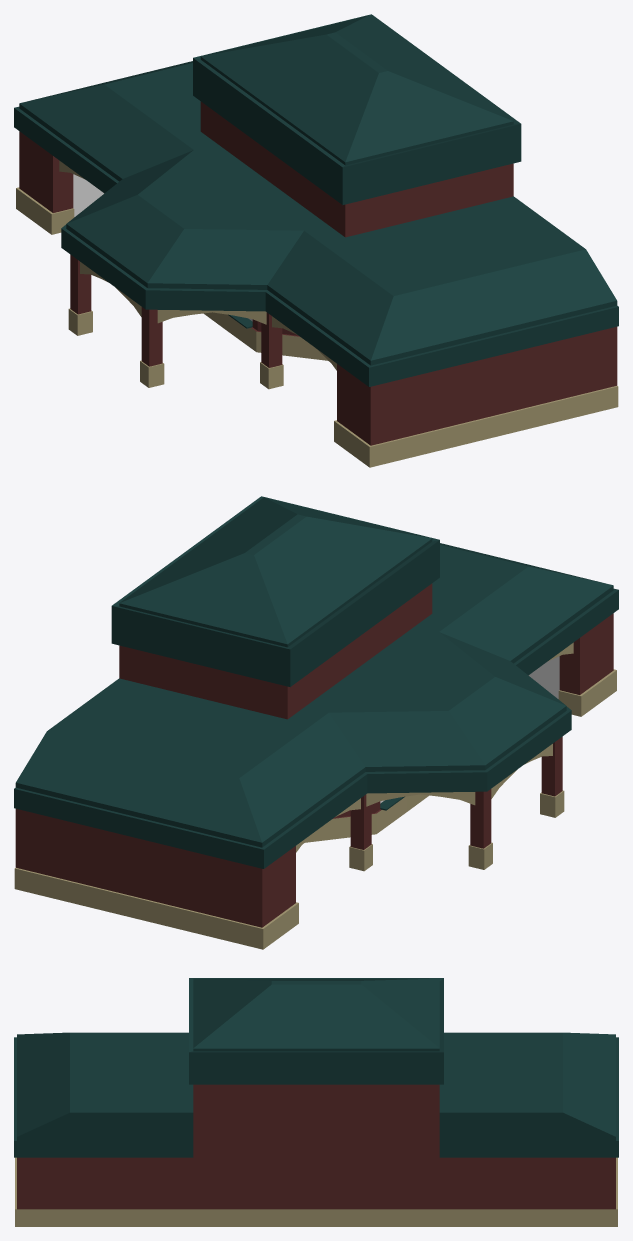
The model's file is Concession_Building.fbx.
The picture shows the model from 3 angles, top to bottom: view 1: azimuth 30°, elevation 25°; view 2: azimuth 150°, elevation 25°; view 3: azimuth 270°, elevation 25°; orthographic projection. The views are drawn at different scales.
Parts seen in each view (by area): view 1: Concession Building; view 2: Concession Building; view 3: Concession Building.
Boxes of the visible parts, x1,y1,x2,y2 form: Concession Building: [14, 14, 618, 467]; Concession Building: [14, 496, 618, 949]; Concession Building: [14, 978, 618, 1226].
Size of the model in its own units: 1589 by 1086 by 2849.
